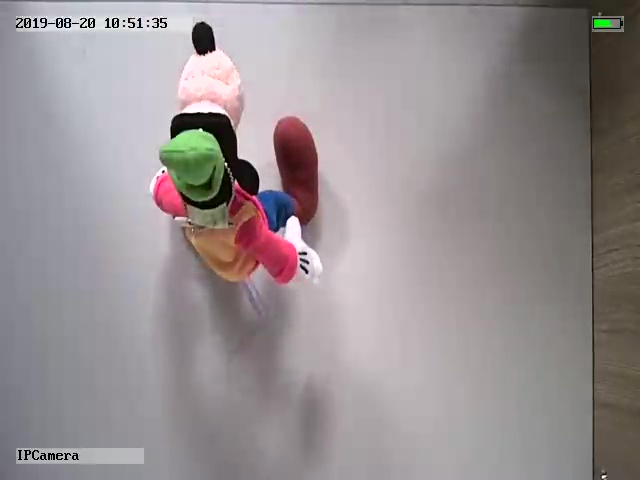goofy: (149, 21, 323, 292)
